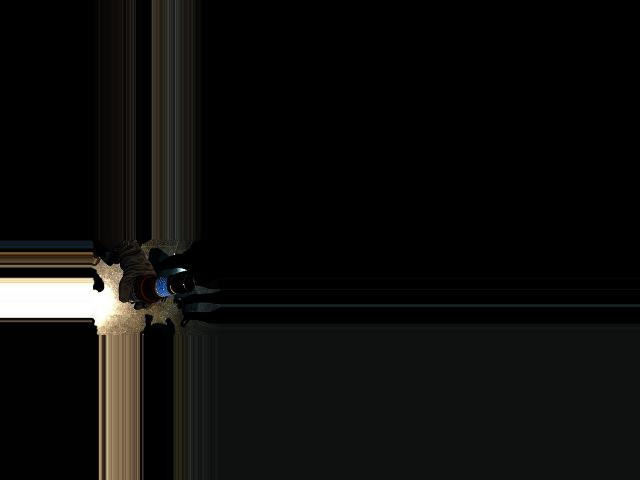beer: (123, 273, 194, 305)
